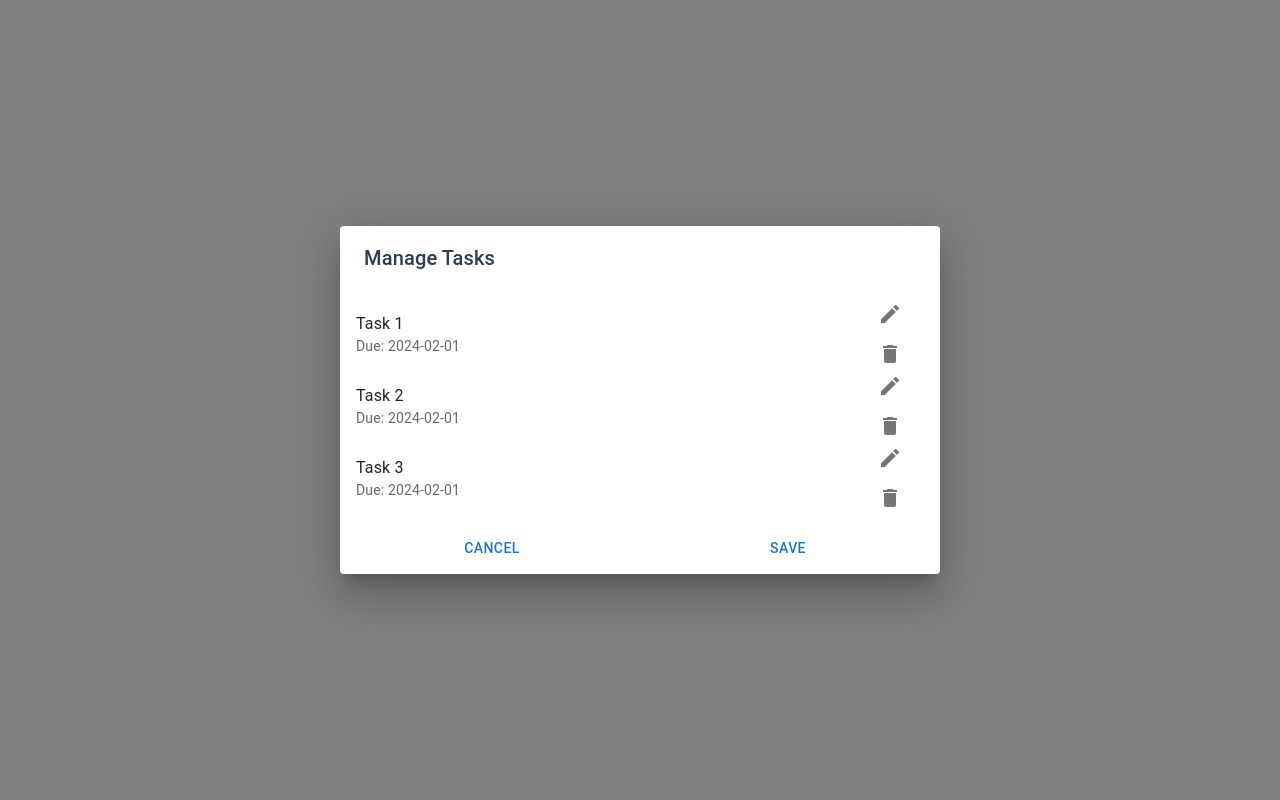
Test: ManageTasksDialog Component › opens edit dialog for a task
The image size is (1280, 800).
Click the button named "edit" in the row of "Task 1": coordinates (890, 314) [868,294,913,334]
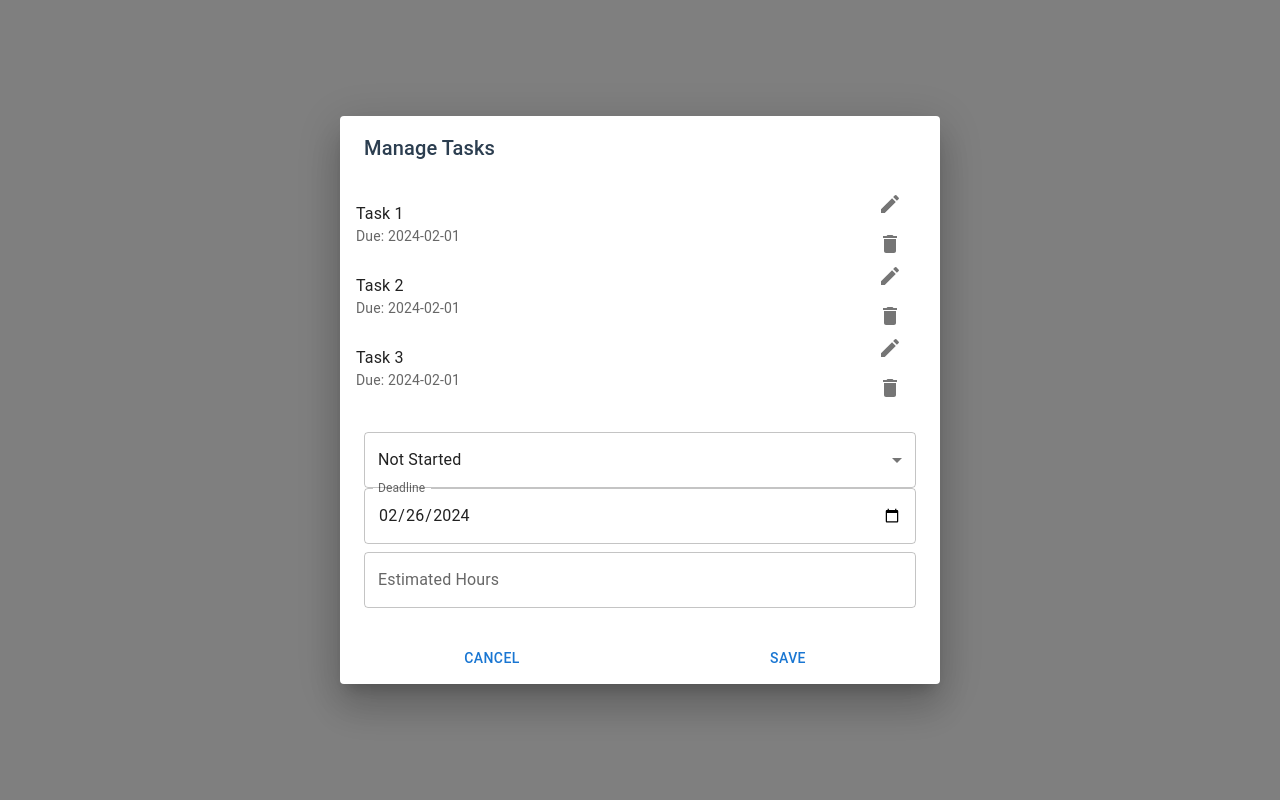
Check: the date field labelled "Deadline" holds "2024-02-26", box [364,488,916,544]
